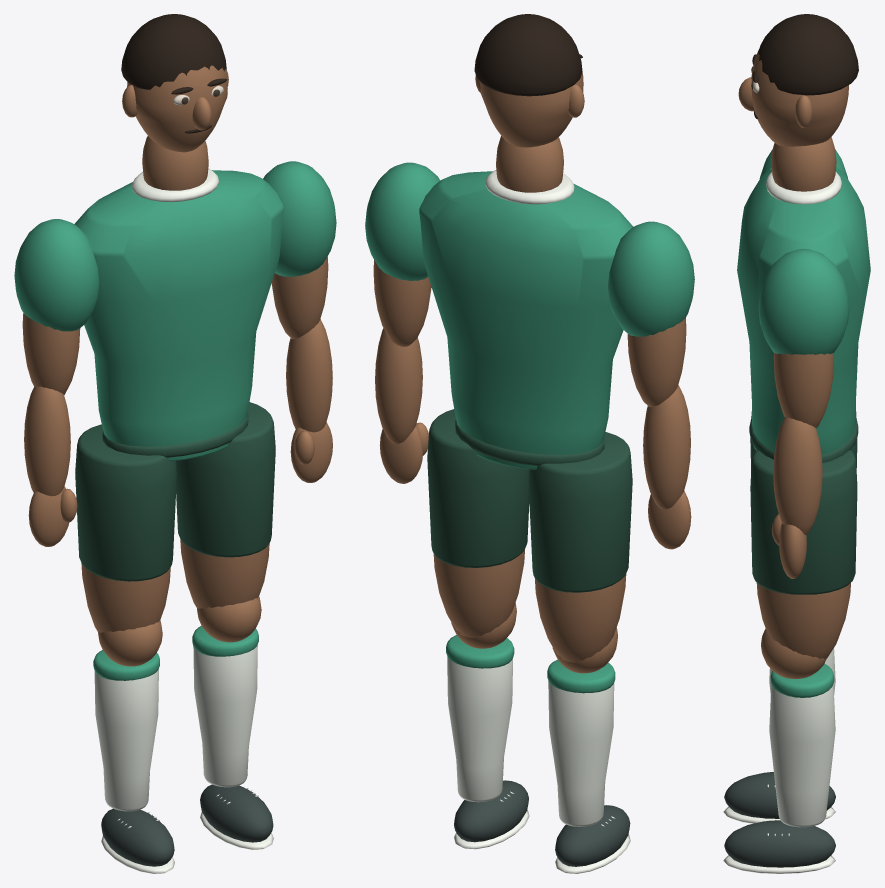
File: footballer.glb
3 renders of one model, left to right at view 1: azimuth 30°, elevation 25°; view 2: azimuth 150°, elevation 25°; view 3: azimuth 270°, elevation 25°, orthographic. The views are drawn at different scales.
Parts seen in each view (by area): view 1: Shirt, LeftShorts, RightShorts, LeftSleeve, RightSock, LeftSock, RightSleeve, Hair, Head, LeftForearm, RightForearm, RightThigh (+14 smaller); view 2: Shirt, LeftShorts, RightShorts, LeftSleeve, RightSock, LeftSock, Hair, RightSleeve, LeftThigh, RightThigh, LeftForearm, RightForearm (+14 smaller); view 3: Shirt, RightShorts, RightSleeve, RightSock, Hair, RightThigh, RightForearm, Head, RightBoot, RightUpperArm, Neck, LeftBoot (+9 smaller).
Part boxes in pixels (<box>): Shirt: <box>74,170,283,461</box>; LeftShorts: <box>75,424,176,581</box>; RightShorts: <box>176,402,275,557</box>; LeftSleeve: <box>14,219,99,331</box>; RightSock: <box>193,644,257,787</box>; LeftSock: <box>94,669,158,811</box>; RightSleeve: <box>263,161,336,276</box>; Hair: <box>121,14,226,89</box>; Head: <box>127,65,227,152</box>; LeftForearm: <box>24,386,70,496</box>; RightForearm: <box>286,319,332,432</box>; RightThigh: <box>180,539,269,608</box>; Shirt: <box>419,171,633,469</box>; LeftShorts: <box>528,432,632,592</box>; RightShorts: <box>427,409,529,567</box>; LeftSleeve: <box>608,221,694,336</box>; RightSock: <box>447,656,512,802</box>; LeftSock: <box>548,681,614,826</box>; Hair: <box>474,14,582,96</box>; RightSleeve: <box>365,162,440,280</box>; LeftThigh: <box>535,574,626,662</box>; RightThigh: <box>433,549,524,638</box>; LeftForearm: <box>643,385,690,509</box>; RightForearm: <box>375,328,422,444</box>; Shirt: <box>737,167,870,454</box>; RightShorts: <box>750,450,857,594</box>; RightSleeve: <box>758,248,849,354</box>; RightSock: <box>769,684,835,827</box>; Hair: <box>758,14,858,95</box>; RightThigh: <box>756,583,850,658</box>; RightForearm: <box>773,417,822,534</box>; Head: <box>751,50,848,146</box>; RightBoot: <box>724,820,835,867</box>; RightUpperArm: <box>773,353,833,427</box>; Neck: <box>771,137,836,191</box>; LeftBoot: <box>724,772,835,818</box>.
Size of the model in its own units: 0.7265 by 1.84 by 0.298.
